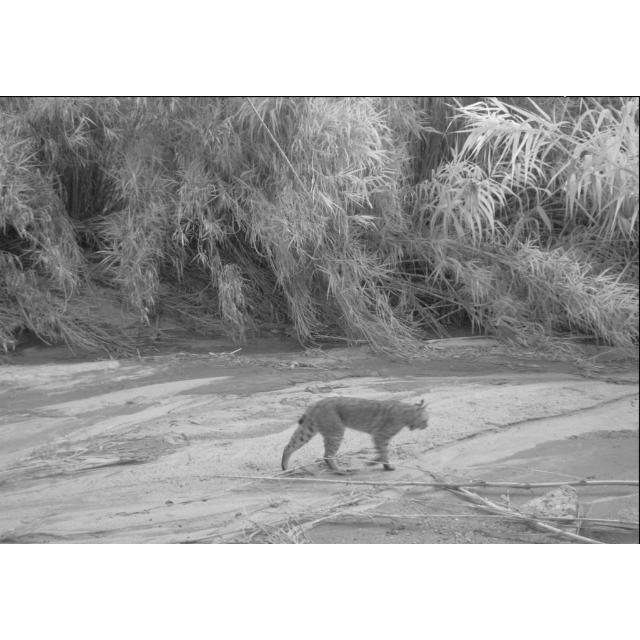animals: (278, 395, 434, 477)
